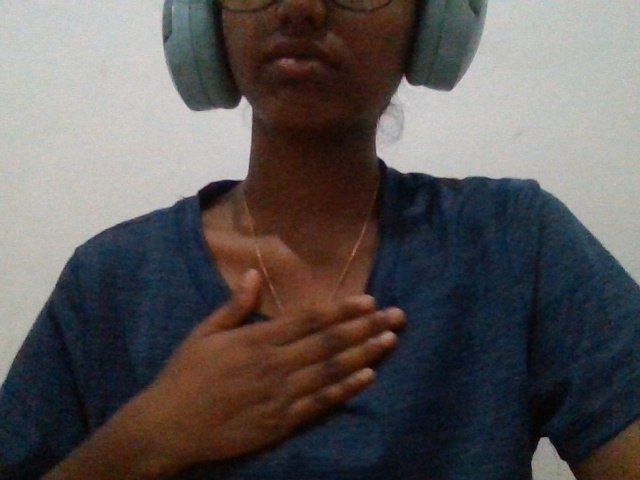Please: (95, 256, 468, 480)
